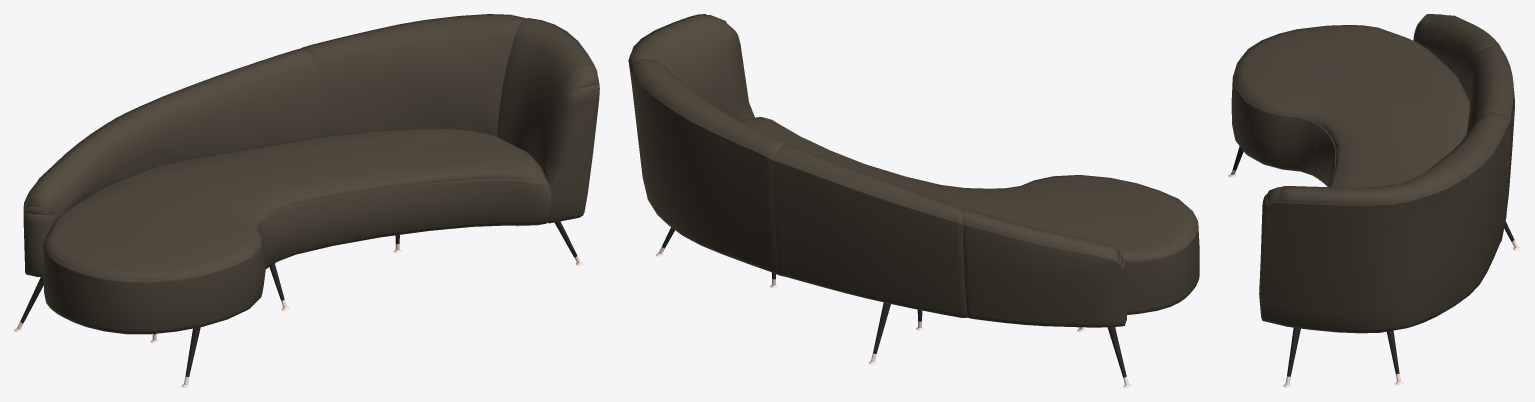
The model's file is GlamVelvetSofa.glb.
3 renders of one model, left to right at view 1: azimuth 30°, elevation 25°; view 2: azimuth 150°, elevation 25°; view 3: azimuth 270°, elevation 25°, orthographic. The views are drawn at different scales.
Parts seen in each view (by area): view 1: GlamVelvetSofa_fabric, GlamVelvetSofa_legs; view 2: GlamVelvetSofa_fabric, GlamVelvetSofa_legs; view 3: GlamVelvetSofa_fabric, GlamVelvetSofa_legs.
Part boxes in pixels (x1,y1,x2,y2): GlamVelvetSofa_fabric: (23,14,599,334); GlamVelvetSofa_legs: (20,221,577,376); GlamVelvetSofa_fabric: (628,14,1199,327); GlamVelvetSofa_legs: (662,227,1126,377); GlamVelvetSofa_fabric: (1231,14,1514,333); GlamVelvetSofa_legs: (1233,146,1514,376).
Bounding box in the file's own units: 2.19 × 0.7875 × 1.02.
